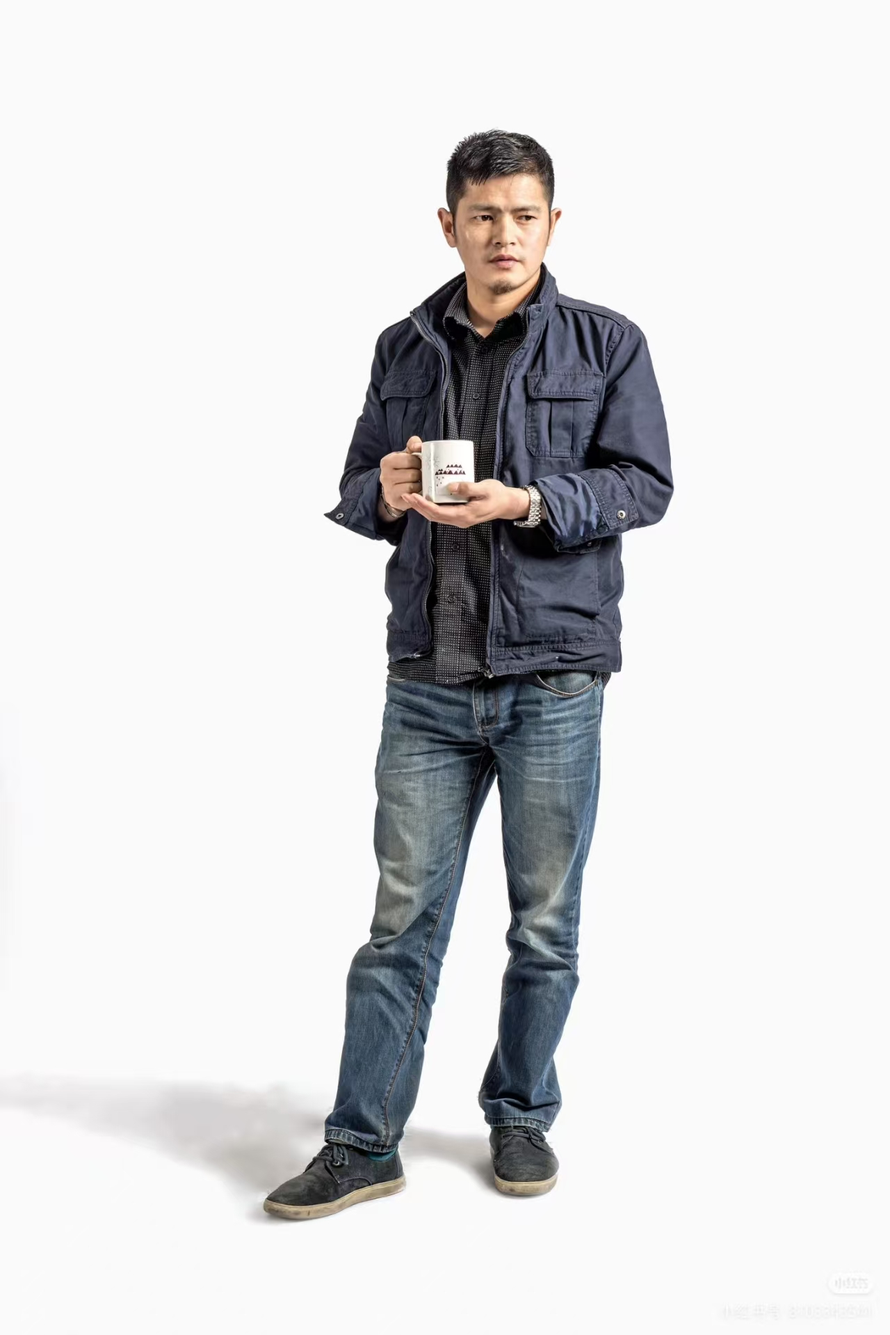up: (260, 94, 674, 1266)
